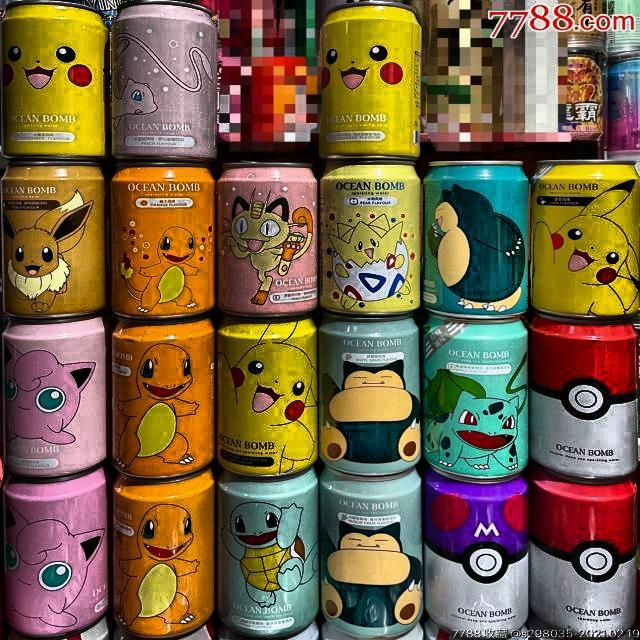can: (522, 307, 640, 482), (523, 465, 640, 640), (417, 455, 531, 634), (423, 292, 529, 483), (106, 153, 225, 320), (99, 0, 221, 161), (0, 463, 110, 640), (321, 458, 425, 640), (0, 310, 108, 485), (527, 154, 640, 320), (315, 311, 424, 483), (421, 151, 533, 317), (0, 147, 107, 318), (110, 313, 217, 484), (315, 158, 426, 319), (0, 0, 110, 162), (217, 460, 317, 638), (314, 0, 425, 160), (216, 153, 325, 315), (217, 309, 319, 480), (115, 469, 213, 637)
